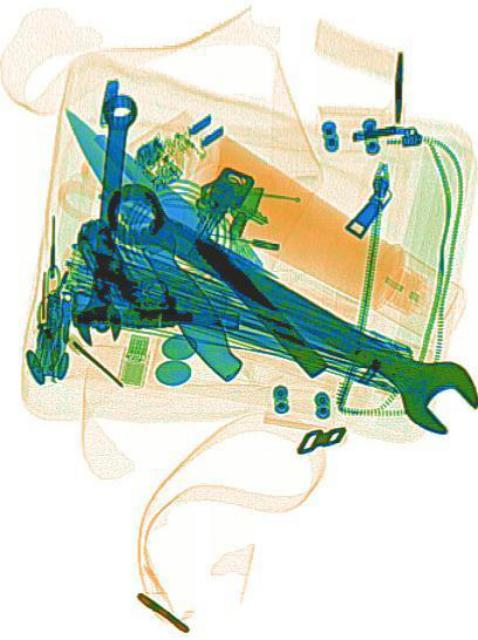Gun: (73, 216, 236, 336)
Knife: (88, 116, 331, 380), (53, 88, 248, 390)
Wrench: (97, 167, 475, 439), (69, 90, 144, 348)
